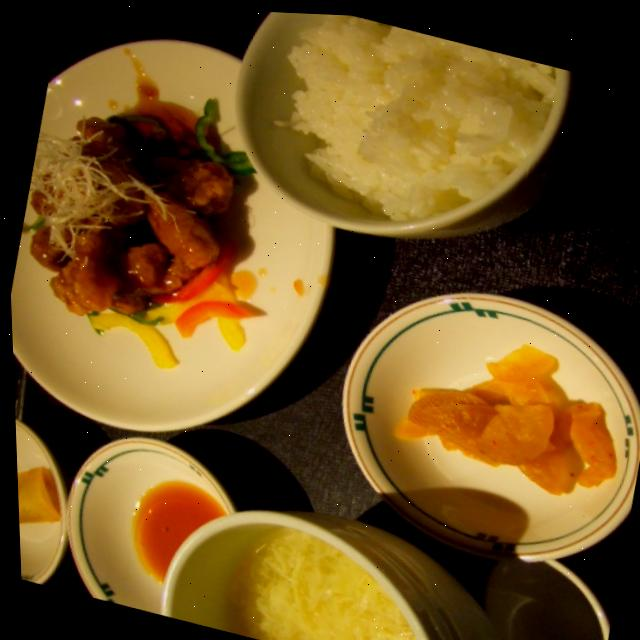猪肉菜式: (2, 52, 307, 398)
米饭主食: (225, 8, 584, 267)
